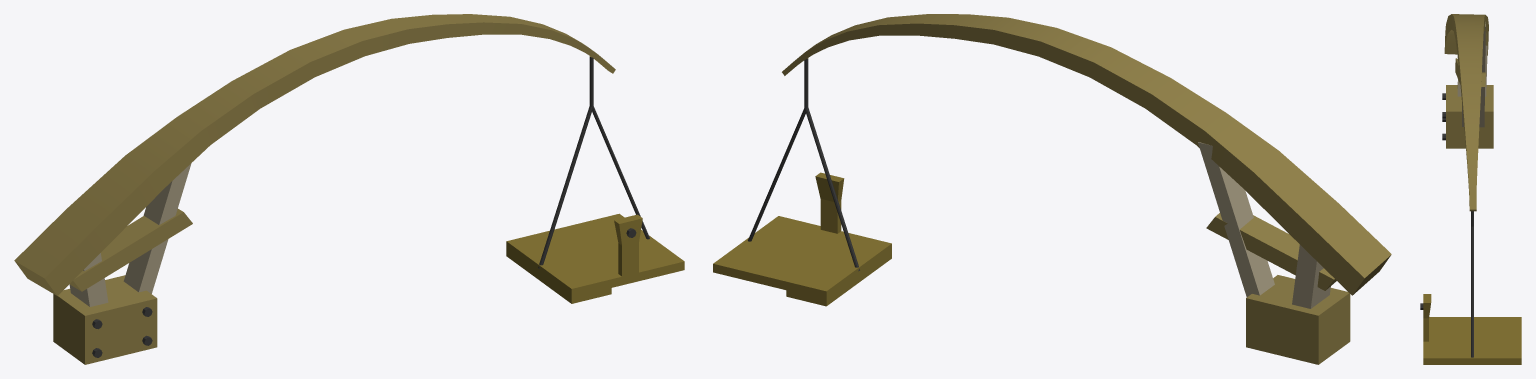
The model's file is turret_2_3.fbx.
The picture shows the model from 3 angles, left to right: view 1: azimuth 30°, elevation 25°; view 2: azimuth 150°, elevation 25°; view 3: azimuth 270°, elevation 25°; orthographic projection. The views are drawn at different scales.
Visible parts, largest first — view 1: turret2_3, landing; view 2: turret2_3, landing; view 3: turret2_3, landing.
Boxes of the visible parts, bbox=[...] form: turret2_3: bbox=[14, 14, 615, 364]; landing: bbox=[506, 56, 684, 303]; turret2_3: bbox=[782, 14, 1391, 364]; landing: bbox=[713, 58, 891, 306]; turret2_3: bbox=[1442, 14, 1493, 211]; landing: bbox=[1420, 211, 1521, 364].
Bounding box in the file's own units: 116 × 51.43 × 21.48.
